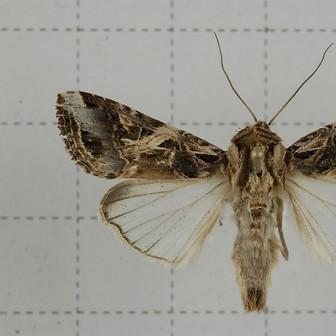Spodoptera litura: (55, 32, 336, 313)
